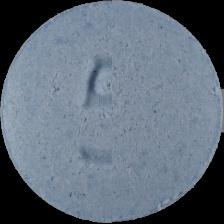63629-5270: (0, 0, 224, 224)
